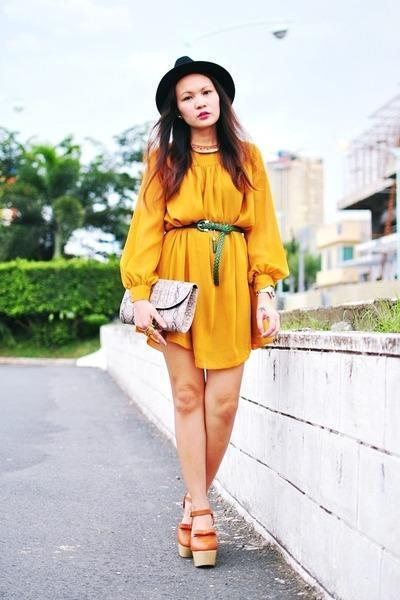bag: (120, 276, 218, 332)
dress: (120, 142, 290, 379)
shoe: (176, 499, 223, 558)
